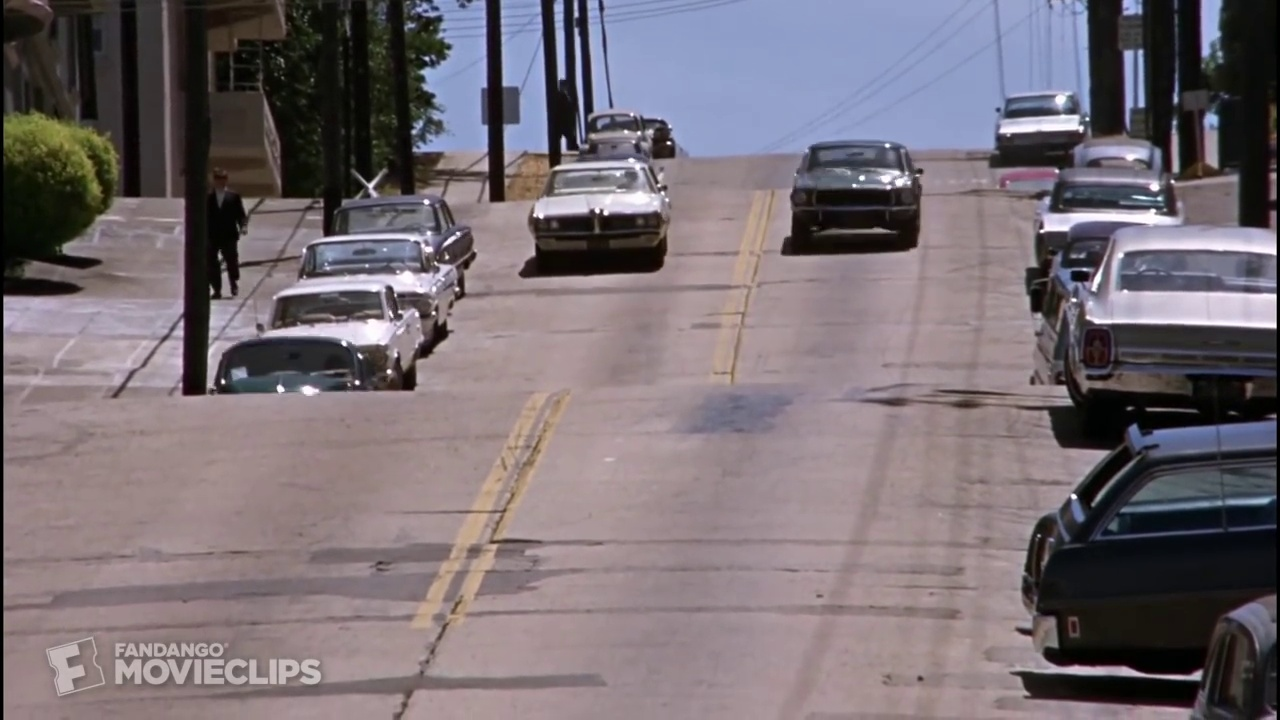car: (1014, 413, 1280, 692), (1053, 220, 1280, 437), (274, 232, 466, 358), (1035, 216, 1172, 368), (314, 195, 480, 320), (1020, 165, 1191, 285), (250, 285, 432, 396), (527, 152, 678, 279), (783, 137, 929, 256), (1036, 129, 1178, 234), (209, 331, 383, 394), (986, 85, 1090, 171), (571, 104, 660, 176), (620, 113, 683, 164)
person: (190, 161, 253, 305), (545, 77, 583, 155)
